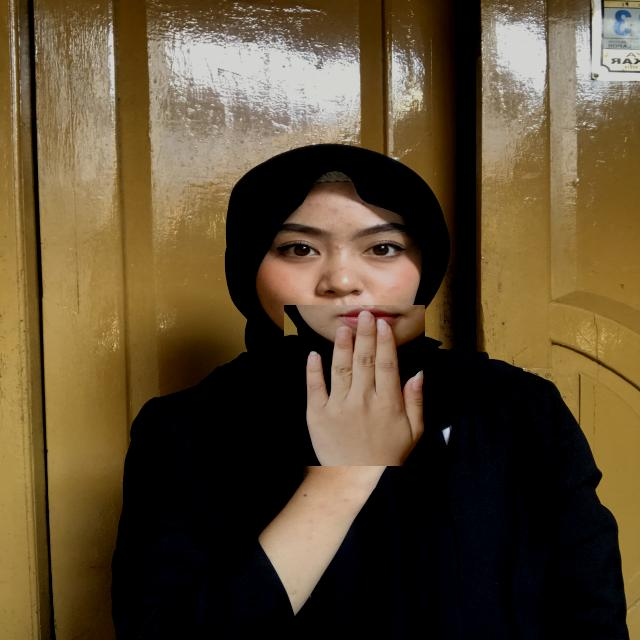ganteng: (284, 305, 425, 466)
